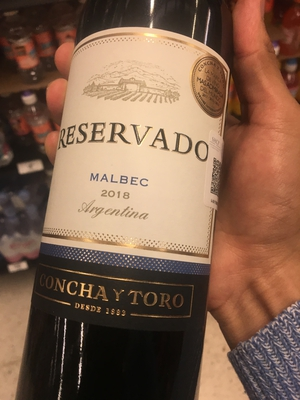reservado malbec: (43, 12, 230, 400)
